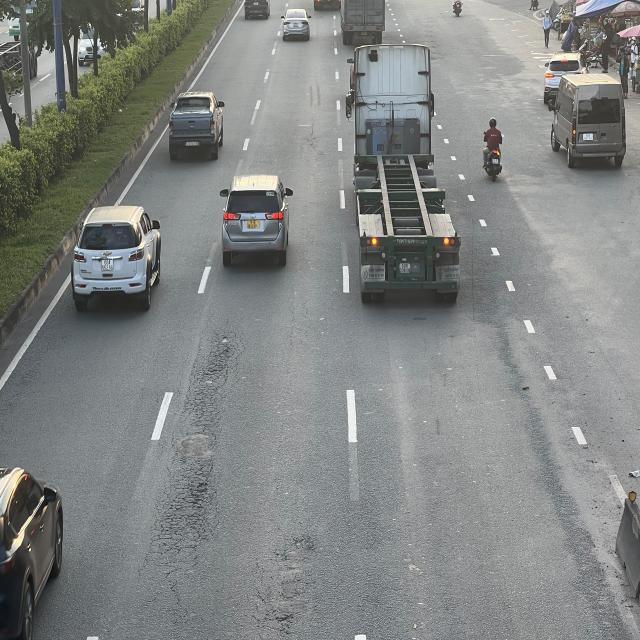car: (0, 466, 65, 638), (74, 202, 163, 308), (218, 174, 291, 264), (169, 94, 226, 161), (279, 8, 313, 41), (244, 0, 272, 21)
container: (344, 42, 462, 302)
van: (546, 76, 626, 170)
